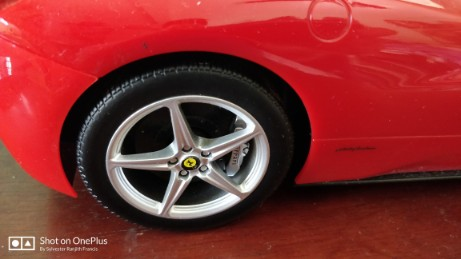aligned_wheel: (74, 63, 301, 233)
